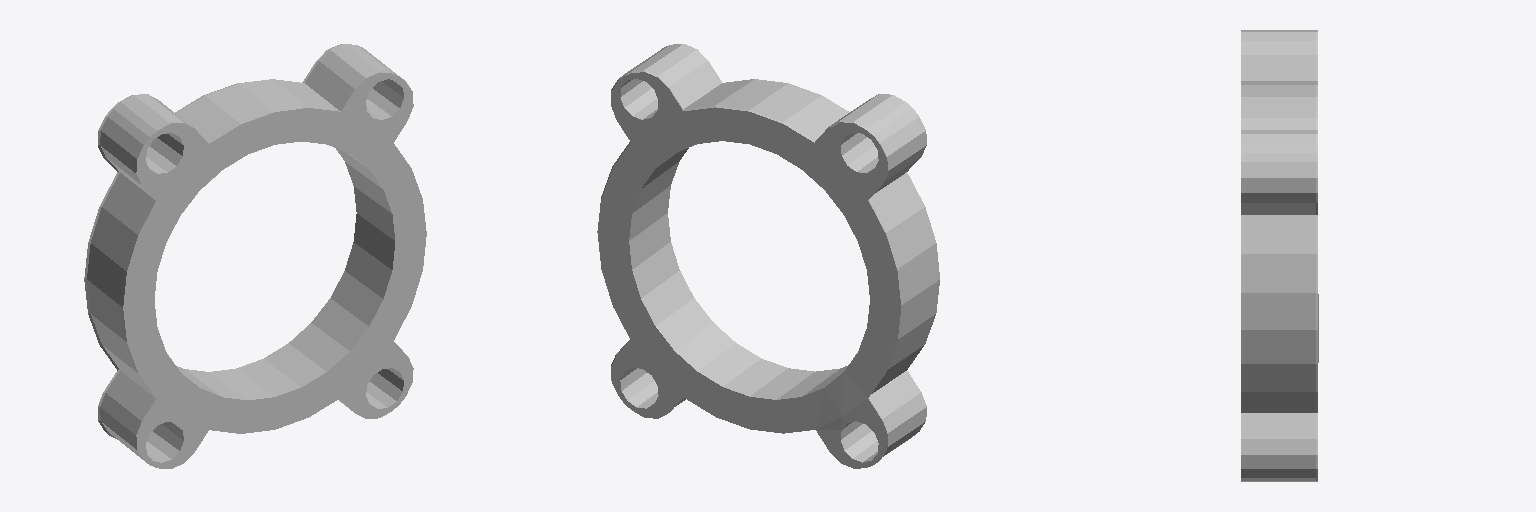
Rendered from THINGIDK.obj.
The picture shows the model from 3 angles: view 1: azimuth 30°, elevation 25°; view 2: azimuth 150°, elevation 25°; view 3: azimuth 270°, elevation 25°; orthographic projection.
Visible parts, largest first — view 1: THINGIDK; view 2: THINGIDK; view 3: THINGIDK.
Part boxes in pixels (x1,y1,x2,y2): THINGIDK: (84,44,426,468); THINGIDK: (597,44,939,468); THINGIDK: (1241,30,1318,481).
Bounding box in the file's own units: 4.02 × 4.37 × 0.9015.